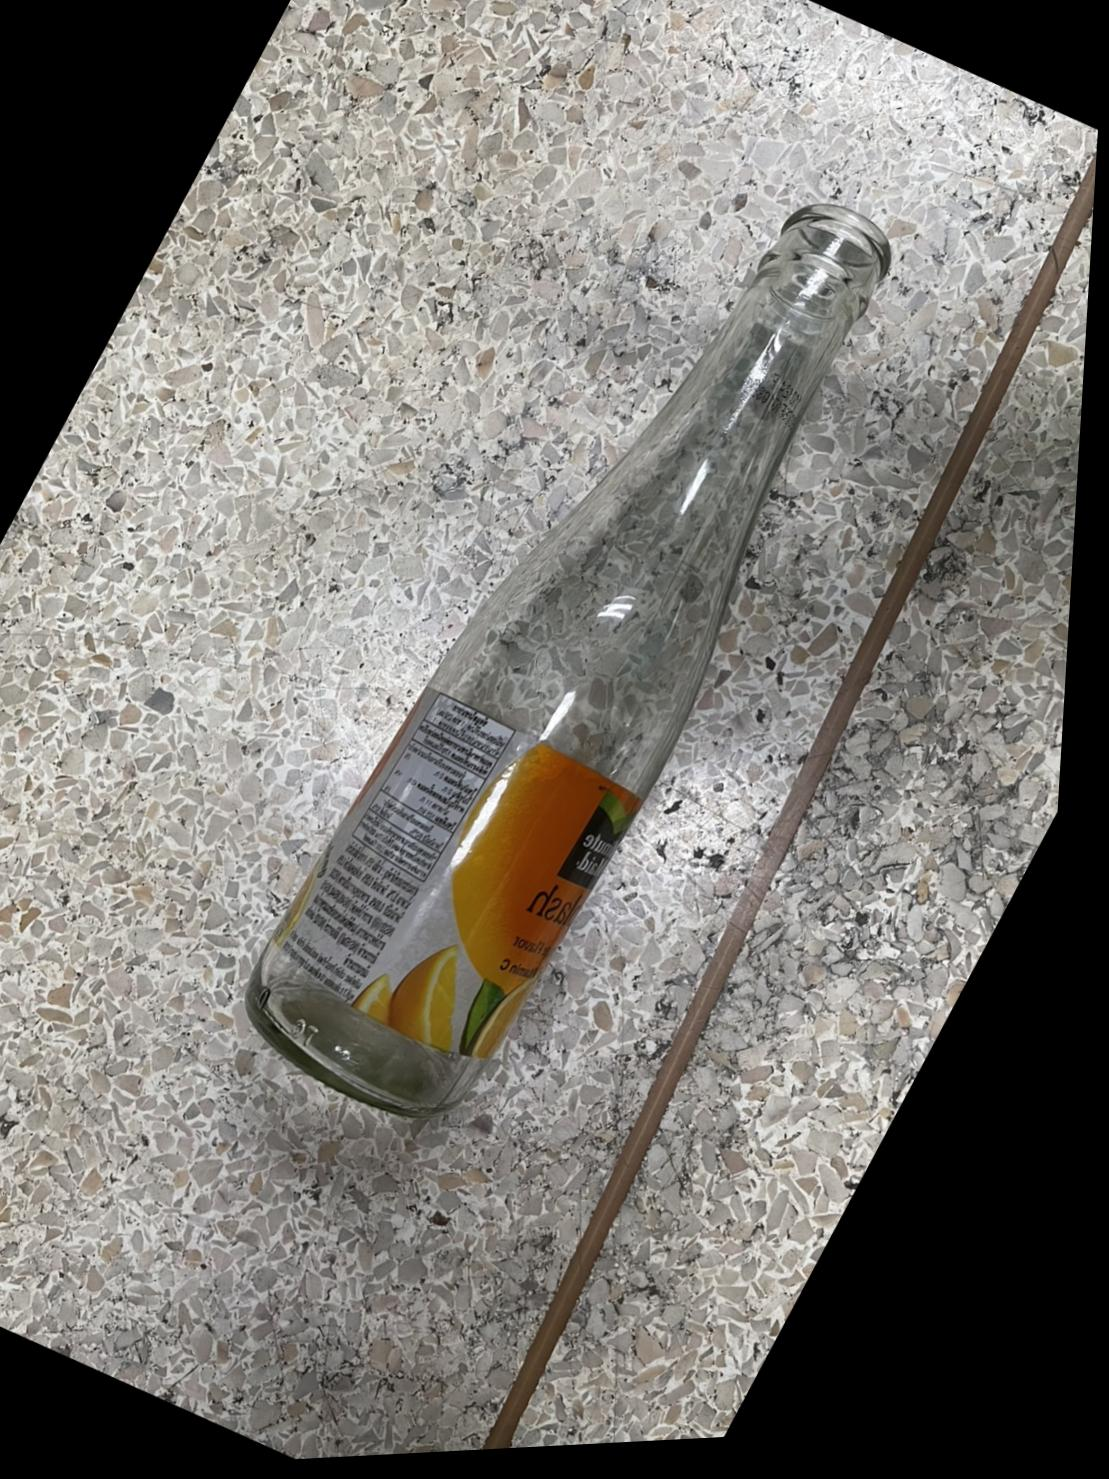glass: (198, 115, 959, 1167)
